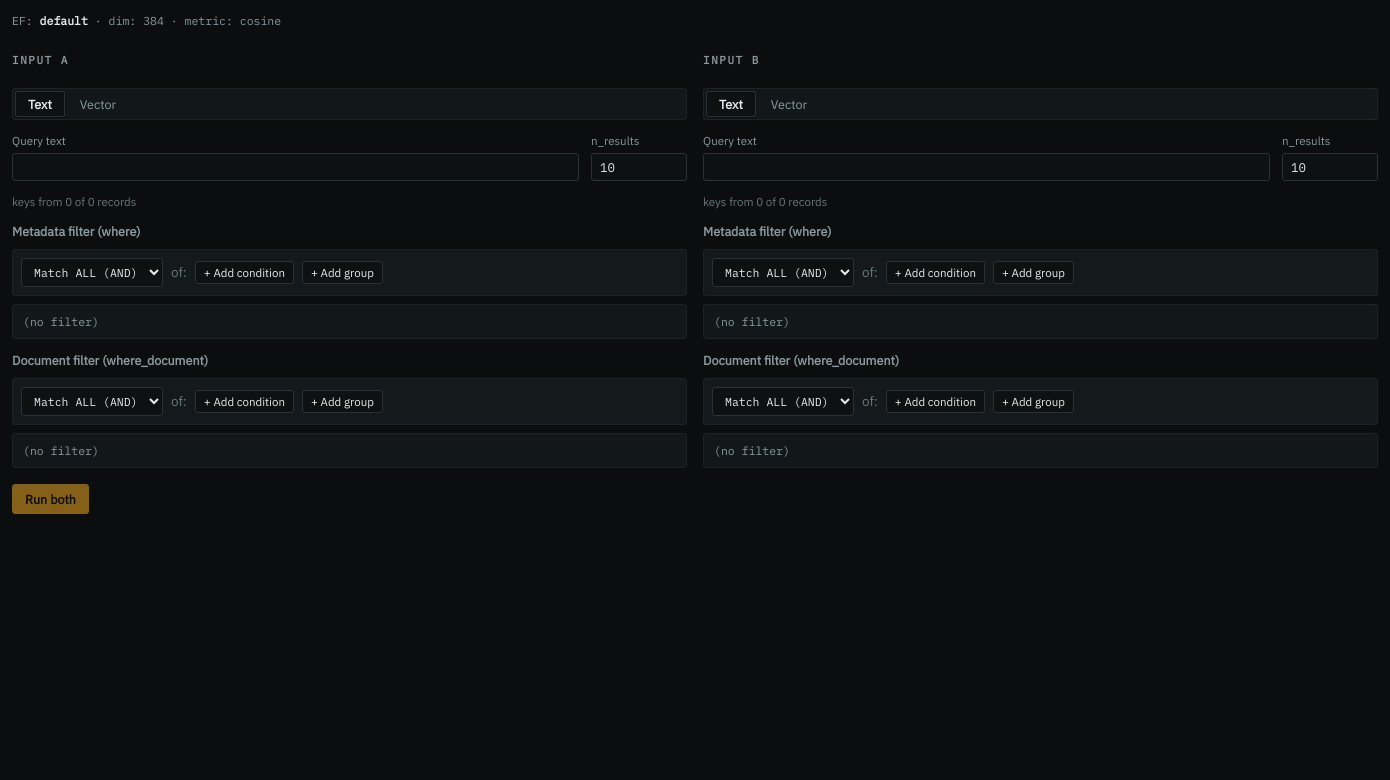
Test: runs both queries and renders a compare with only-A / only-B
Type "aa" into the field labelled "Query text" below "Input A".
click(296, 167); type("aa")  # box left=12, top=153, right=579, bottom=181
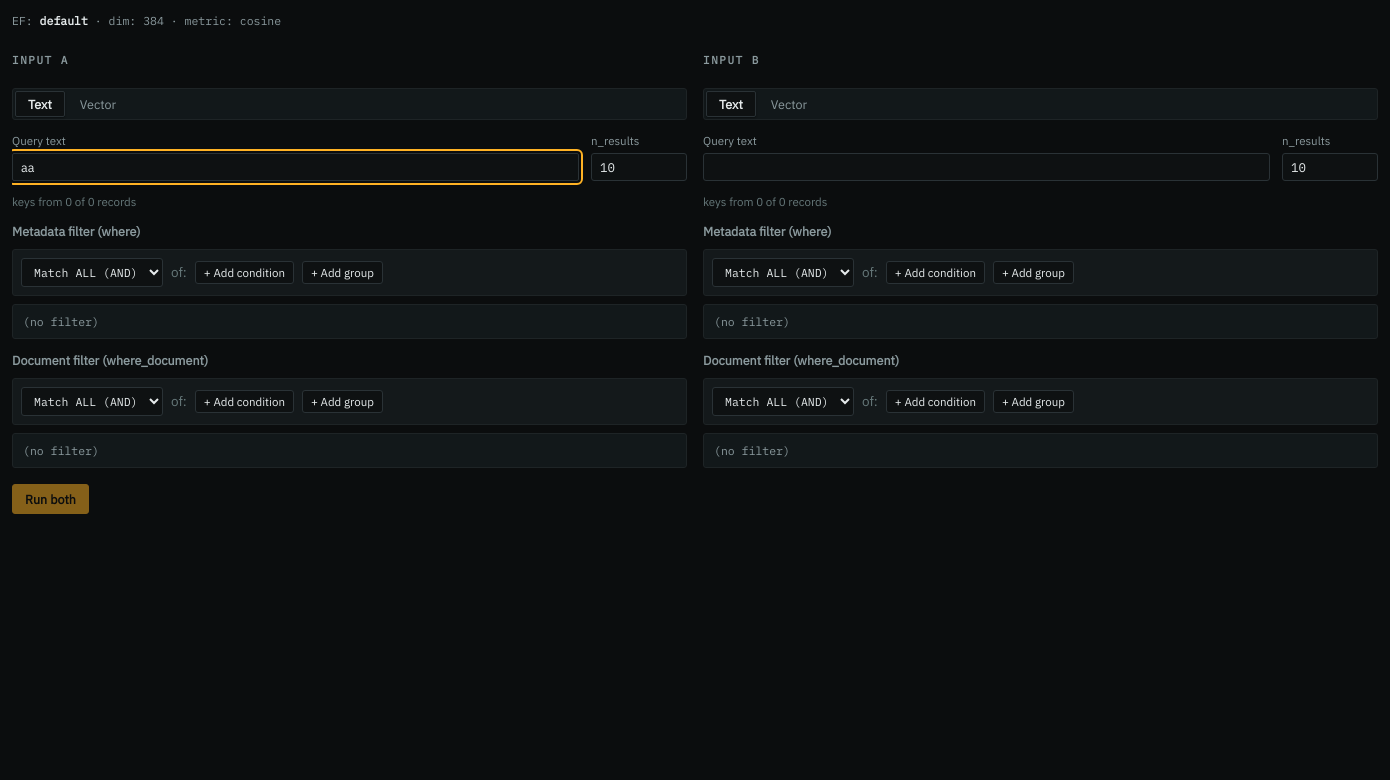
Type "bb" into the field labelled "Query text" below "Input B".
click(986, 167); type("bb")  # box left=703, top=153, right=1270, bottom=181
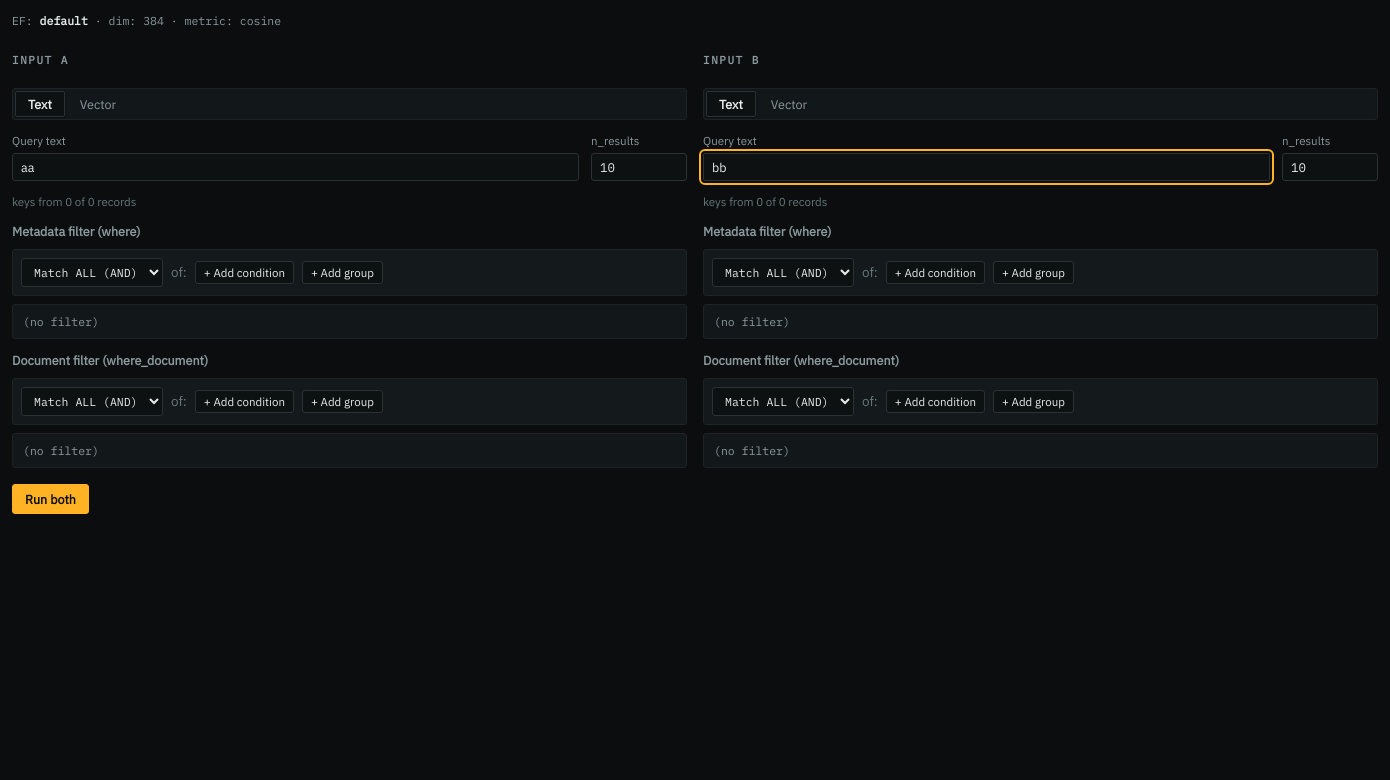
Click the button "Run both".
click(50, 499)  # box left=12, top=484, right=89, bottom=514
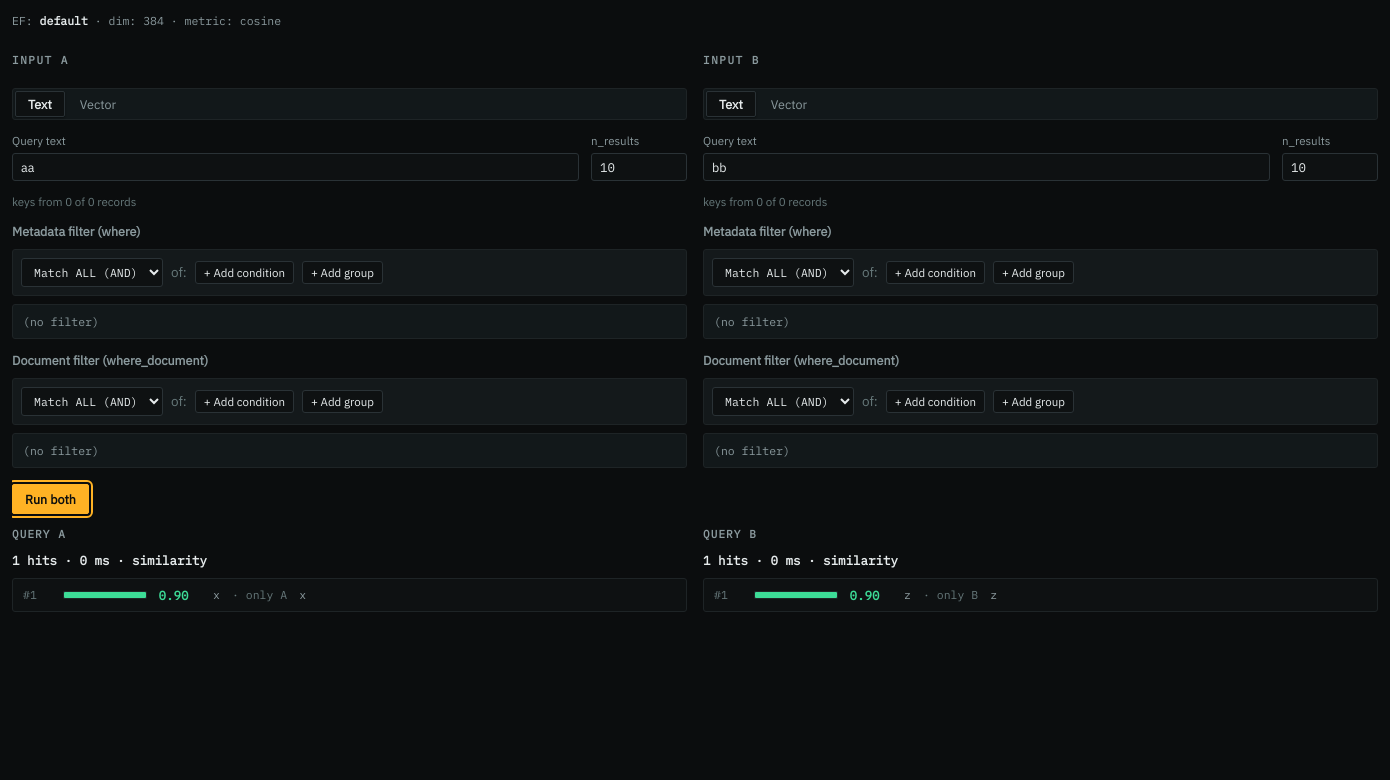
Now the text "· only A" is shown, box left=232, top=587, right=287, bottom=602
Now the text "· only B" is shown, box left=923, top=587, right=978, bottom=602
